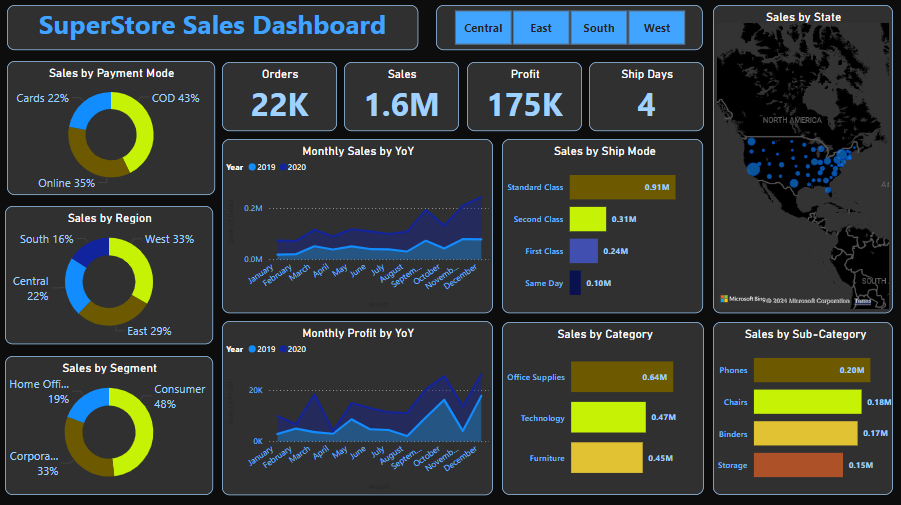

The page's visual inventory and layout, read from the dashboard file:
{"tool":"powerbi","page":{"name":"Dashboard","canvas":[1280,720],"ordinal":0},"visuals":[{"type":"card","title":"Orders","fields":{"Values":["Sum(SuperStore_Sales_Dataset.Quantity)"]},"box":[317.5,90.3,163,98],"z":0},{"type":"card","title":"Sales","fields":{"Values":["Sum(SuperStore_Sales_Dataset.Sales)"]},"box":[490.4,90.7,163,98],"z":1000},{"type":"card","title":"Profit","fields":{"Values":["Sum(SuperStore_Sales_Dataset.Profit)"]},"box":[664.3,90.3,163,98],"z":2000},{"type":"card","title":"Ship Days","fields":{"Values":["Avg(SuperStore_Sales_Dataset.no. shiping days)"]},"box":[837.6,90.3,163,98],"z":3000},{"type":"textbox","title":"fdfdf","box":[12.8,9.9,582.5,63.8],"z":4000},{"type":"slicer","fields":{"Values":["SuperStore_Sales_Dataset.Region"]},"box":[620.8,9.9,378.4,63.8],"z":5000},{"type":"donutChart","title":"Sales by Payment Mode","fields":{"Category":["SuperStore_Sales_Dataset.Payment Mode"],"Y":["Sum(SuperStore_Sales_Dataset.Sales)"]},"box":[12.8,89.3,294.8,189.9],"z":6000},{"type":"donutChart","title":"Sales by Segment","fields":{"Y":["Sum(SuperStore_Sales_Dataset.Sales)"],"Category":["SuperStore_Sales_Dataset.Segment"]},"box":[9.9,507.4,294.8,197],"z":7000},{"type":"donutChart","title":"Sales by Region","fields":{"Y":["Sum(SuperStore_Sales_Dataset.Sales)"],"Category":["SuperStore_Sales_Dataset.Region"]},"box":[9.9,294.8,294.8,195.6],"z":8000},{"type":"barChart","title":"Sales by Ship Mode","fields":{"Y":["Sum(SuperStore_Sales_Dataset.Sales)"],"Category":["SuperStore_Sales_Dataset.Ship Mode"]},"box":[714.3,199.8,284.9,246.6],"z":9000},{"type":"barChart","title":"Sales by Category","fields":{"Category":["SuperStore_Sales_Dataset.Category"],"Y":["Sum(SuperStore_Sales_Dataset.Sales)"]},"box":[713.9,458.6,285.6,245.2],"z":10000},{"type":"barChart","title":"Sales by Sub-Category","fields":{"Y":["Sum(SuperStore_Sales_Dataset.Sales)"],"Category":["SuperStore_Sales_Dataset.Sub-Category"]},"box":[1012.9,458.6,255.3,245.2],"z":11000},{"type":"map","title":"Sales by State","fields":{"Category":["SuperStore_Sales_Dataset.State"],"Size":["Sum(SuperStore_Sales_Dataset.Sales)"]},"box":[1013.4,9.9,255.1,436.5],"z":12000},{"type":"stackedAreaChart","title":"Monthly Sales by YoY","fields":{"Y":["Sum(SuperStore_Sales_Dataset.Sales)"],"Category":["SuperStore_Sales_Dataset.Order Date.Variation.Date Hierarchy.Month"],"Series":["SuperStore_Sales_Dataset.Order Date.Variation.Date Hierarchy.Year"]},"box":[317.5,199.8,384.1,246.6],"z":13000},{"type":"stackedAreaChart","title":"Monthly Profit by YoY","fields":{"Y":["Sum(SuperStore_Sales_Dataset.Profit)"],"Category":["SuperStore_Sales_Dataset.Order Date.Variation.Date Hierarchy.Month"],"Series":["SuperStore_Sales_Dataset.Order Date.Variation.Date Hierarchy.Year"]},"box":[317.5,457.8,384.1,246.6],"z":14000}]}

Visuals, with their boxes in screenshot pixels (x1, y1, x2, y2), scaled from the page's 1280x720 canvas onto the 901x505 screenshot:
"Orders" card: x1=223 y1=63 x2=338 y2=132
"Sales" card: x1=345 y1=64 x2=460 y2=132
"Profit" card: x1=468 y1=63 x2=582 y2=132
"Ship Days" card: x1=590 y1=63 x2=704 y2=132
"fdfdf" textbox: x1=9 y1=7 x2=419 y2=52
slicer - SuperStore_Sales_Dataset.Region: x1=437 y1=7 x2=703 y2=52
"Sales by Payment Mode" donutChart: x1=9 y1=63 x2=217 y2=196
"Sales by Segment" donutChart: x1=7 y1=356 x2=214 y2=494
"Sales by Region" donutChart: x1=7 y1=207 x2=214 y2=344
"Sales by Ship Mode" barChart: x1=503 y1=140 x2=703 y2=313
"Sales by Category" barChart: x1=503 y1=322 x2=704 y2=494
"Sales by Sub-Category" barChart: x1=713 y1=322 x2=893 y2=494
"Sales by State" map: x1=713 y1=7 x2=893 y2=313
"Monthly Sales by YoY" stackedAreaChart: x1=223 y1=140 x2=494 y2=313
"Monthly Profit by YoY" stackedAreaChart: x1=223 y1=321 x2=494 y2=494
